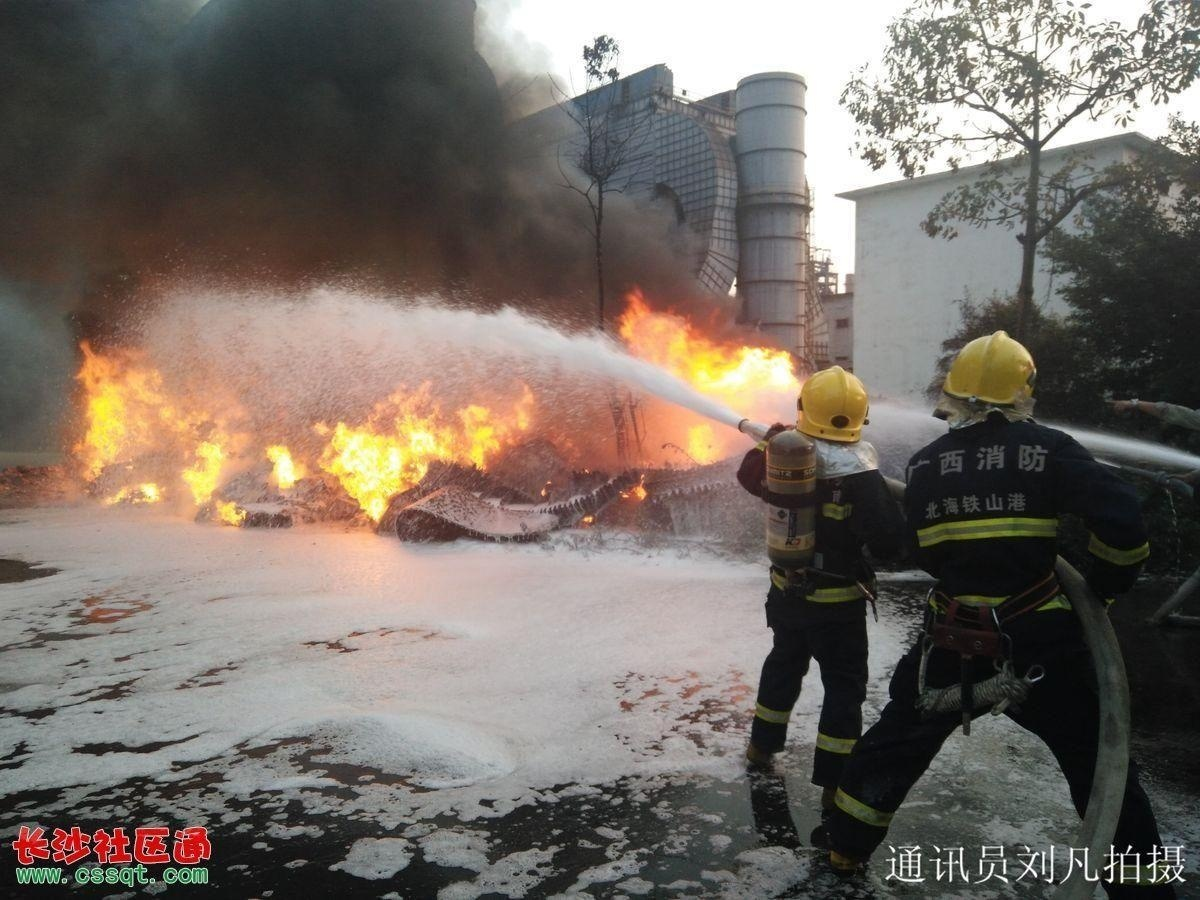fire: (60, 334, 537, 531), (621, 297, 802, 462)
